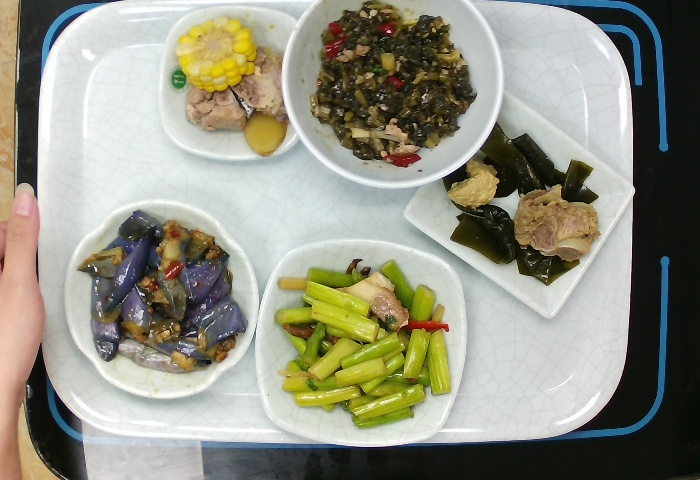JYsf-Ao_Yuan_Wan: (59, 194, 261, 400)
JYsf-Fan_Wan: (278, 1, 509, 190)
JYsf-Si_Fang_Die: (152, 1, 321, 165)
WCQzf-Da_Si_Fang_Die: (253, 231, 477, 449)
WCQzf-Ru_Ci_Si_Fang_Die: (402, 88, 637, 321)
